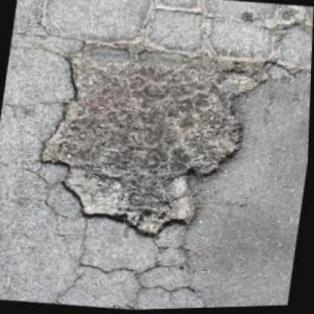Hueco: (28, 33, 260, 252)
